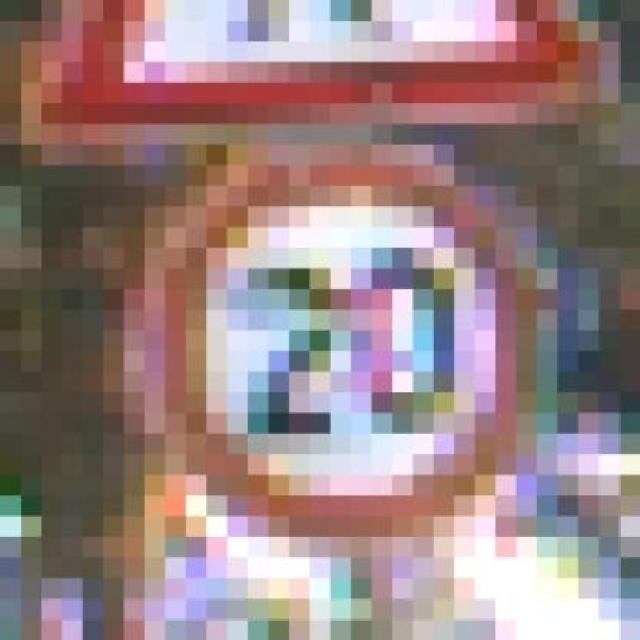forb_speed_over_20: (174, 170, 523, 527)
